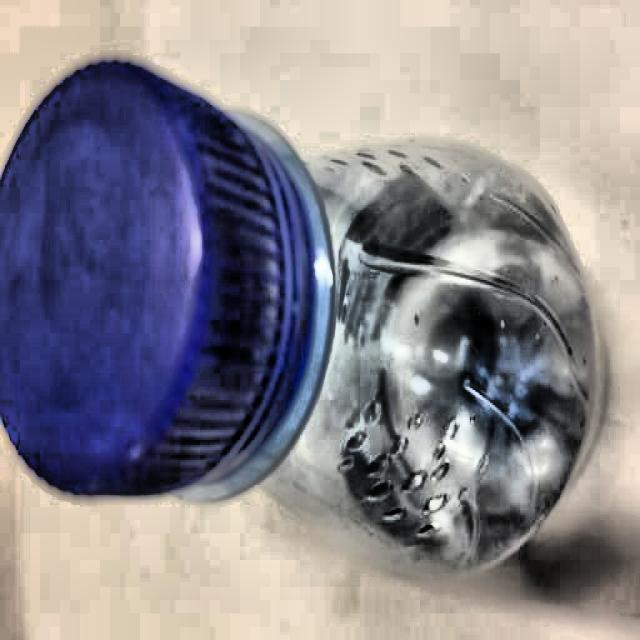plastic: (0, 58, 598, 581)
